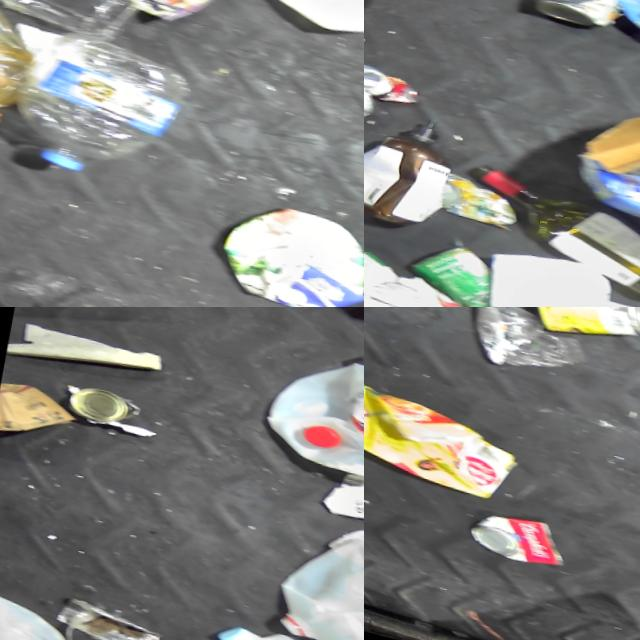can: (468, 498, 574, 569), (405, 230, 501, 307), (54, 592, 168, 640), (441, 168, 524, 227), (524, 307, 640, 349), (64, 378, 146, 430), (529, 0, 620, 28), (364, 58, 397, 97), (364, 76, 380, 144), (327, 286, 364, 307)
milk_jug: (262, 334, 364, 488), (271, 513, 364, 640), (0, 583, 95, 640)
non_white_jug: (214, 180, 364, 307), (11, 0, 258, 33)
plastic_bottle: (9, 15, 197, 189), (15, 307, 142, 327)
